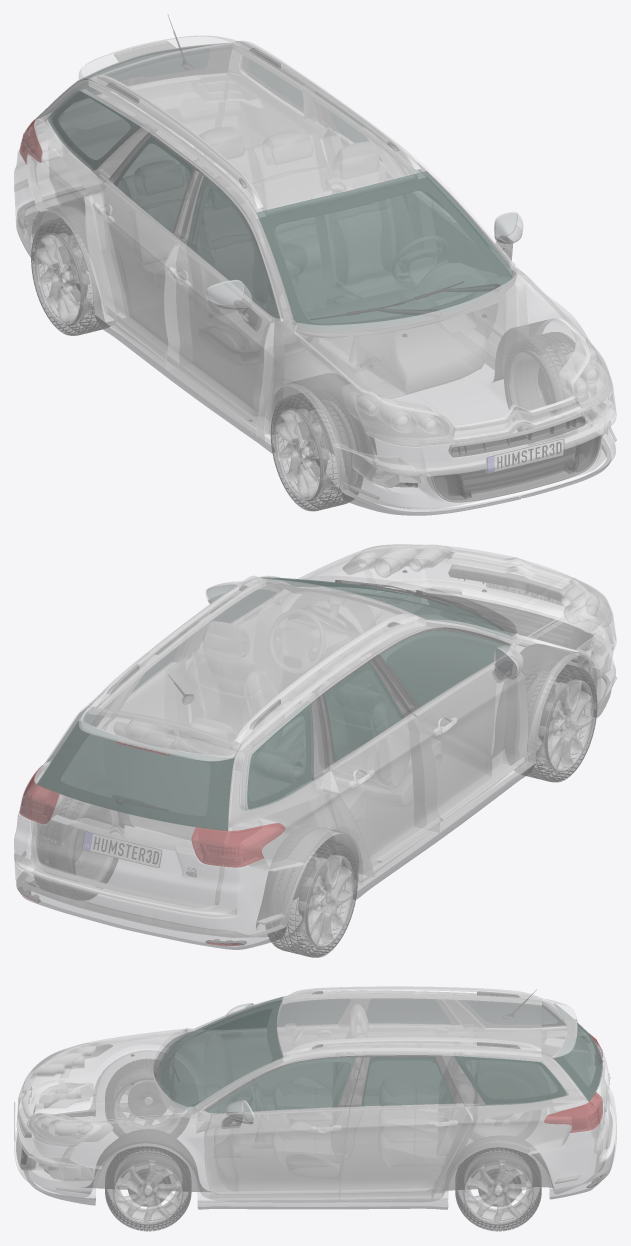
File: citroen-c5-tourer-game.glb
The picture shows the model from 3 angles, top to bottom: view 1: azimuth 30°, elevation 25°; view 2: azimuth 150°, elevation 25°; view 3: azimuth 270°, elevation 25°; orthographic projection. The views are drawn at different scales.
Parts seen in each view (by area): view 1: BODY_TOURER, WHEEL_MERGED_FR, WHEEL_MERGED_RR, WHEEL_MERGED_FL; view 2: BODY_TOURER, WHEEL_MERGED_RR, WHEEL_MERGED_FR, WHEEL_MERGED_RL; view 3: BODY_TOURER, WHEEL_MERGED_FL, WHEEL_MERGED_RL, WHEEL_MERGED_FR.
Part boxes in pixels (x1,y1,x2,y2): BODY_TOURER: [14, 15, 616, 515]; WHEEL_MERGED_FR: [270, 389, 362, 511]; WHEEL_MERGED_RR: [31, 214, 110, 335]; WHEEL_MERGED_FL: [504, 332, 576, 444]; BODY_TOURER: [14, 544, 616, 949]; WHEEL_MERGED_RR: [264, 836, 357, 957]; WHEEL_MERGED_FR: [514, 660, 597, 782]; WHEEL_MERGED_RL: [31, 797, 124, 900]; BODY_TOURER: [14, 986, 616, 1209]; WHEEL_MERGED_FL: [105, 1142, 191, 1231]; WHEEL_MERGED_RL: [455, 1146, 541, 1231]; WHEEL_MERGED_FR: [105, 1059, 189, 1137].
Size of the model in its own units: 2.11 by 1.71 by 4.81.
